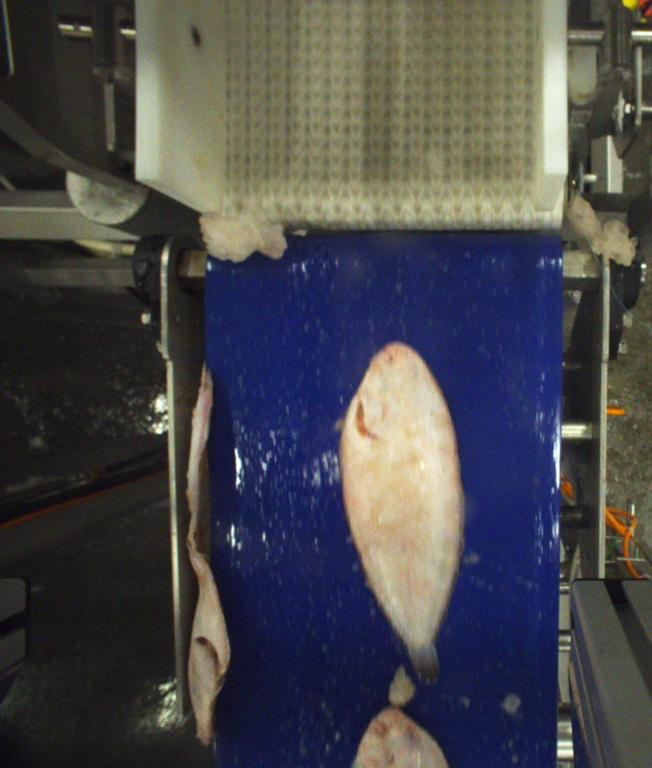SOL: (341, 342, 465, 690)
